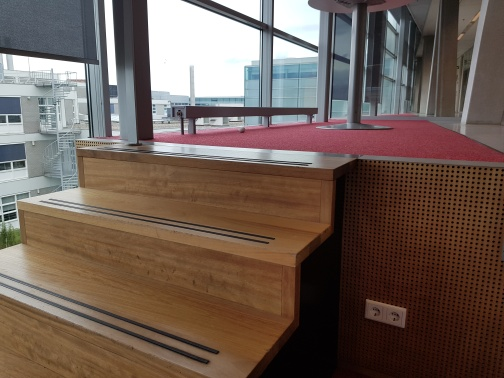egg: (237, 125, 246, 133)
